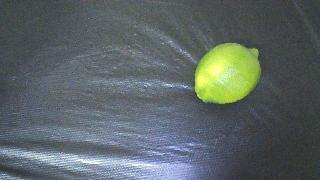LOCAL: (195, 43, 261, 104)
